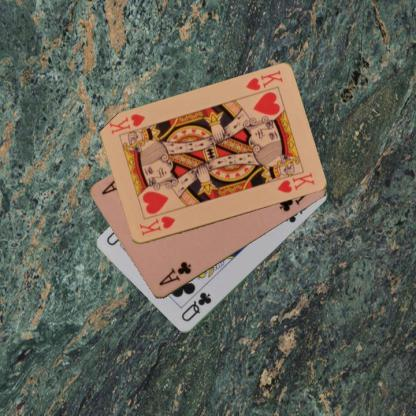Ac: (156, 259, 193, 288)
Kh: (243, 68, 284, 92), (136, 214, 177, 237)
Qc: (179, 289, 213, 323)
